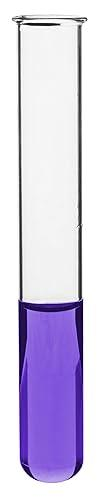Test tube: (0, 14, 91, 480)
